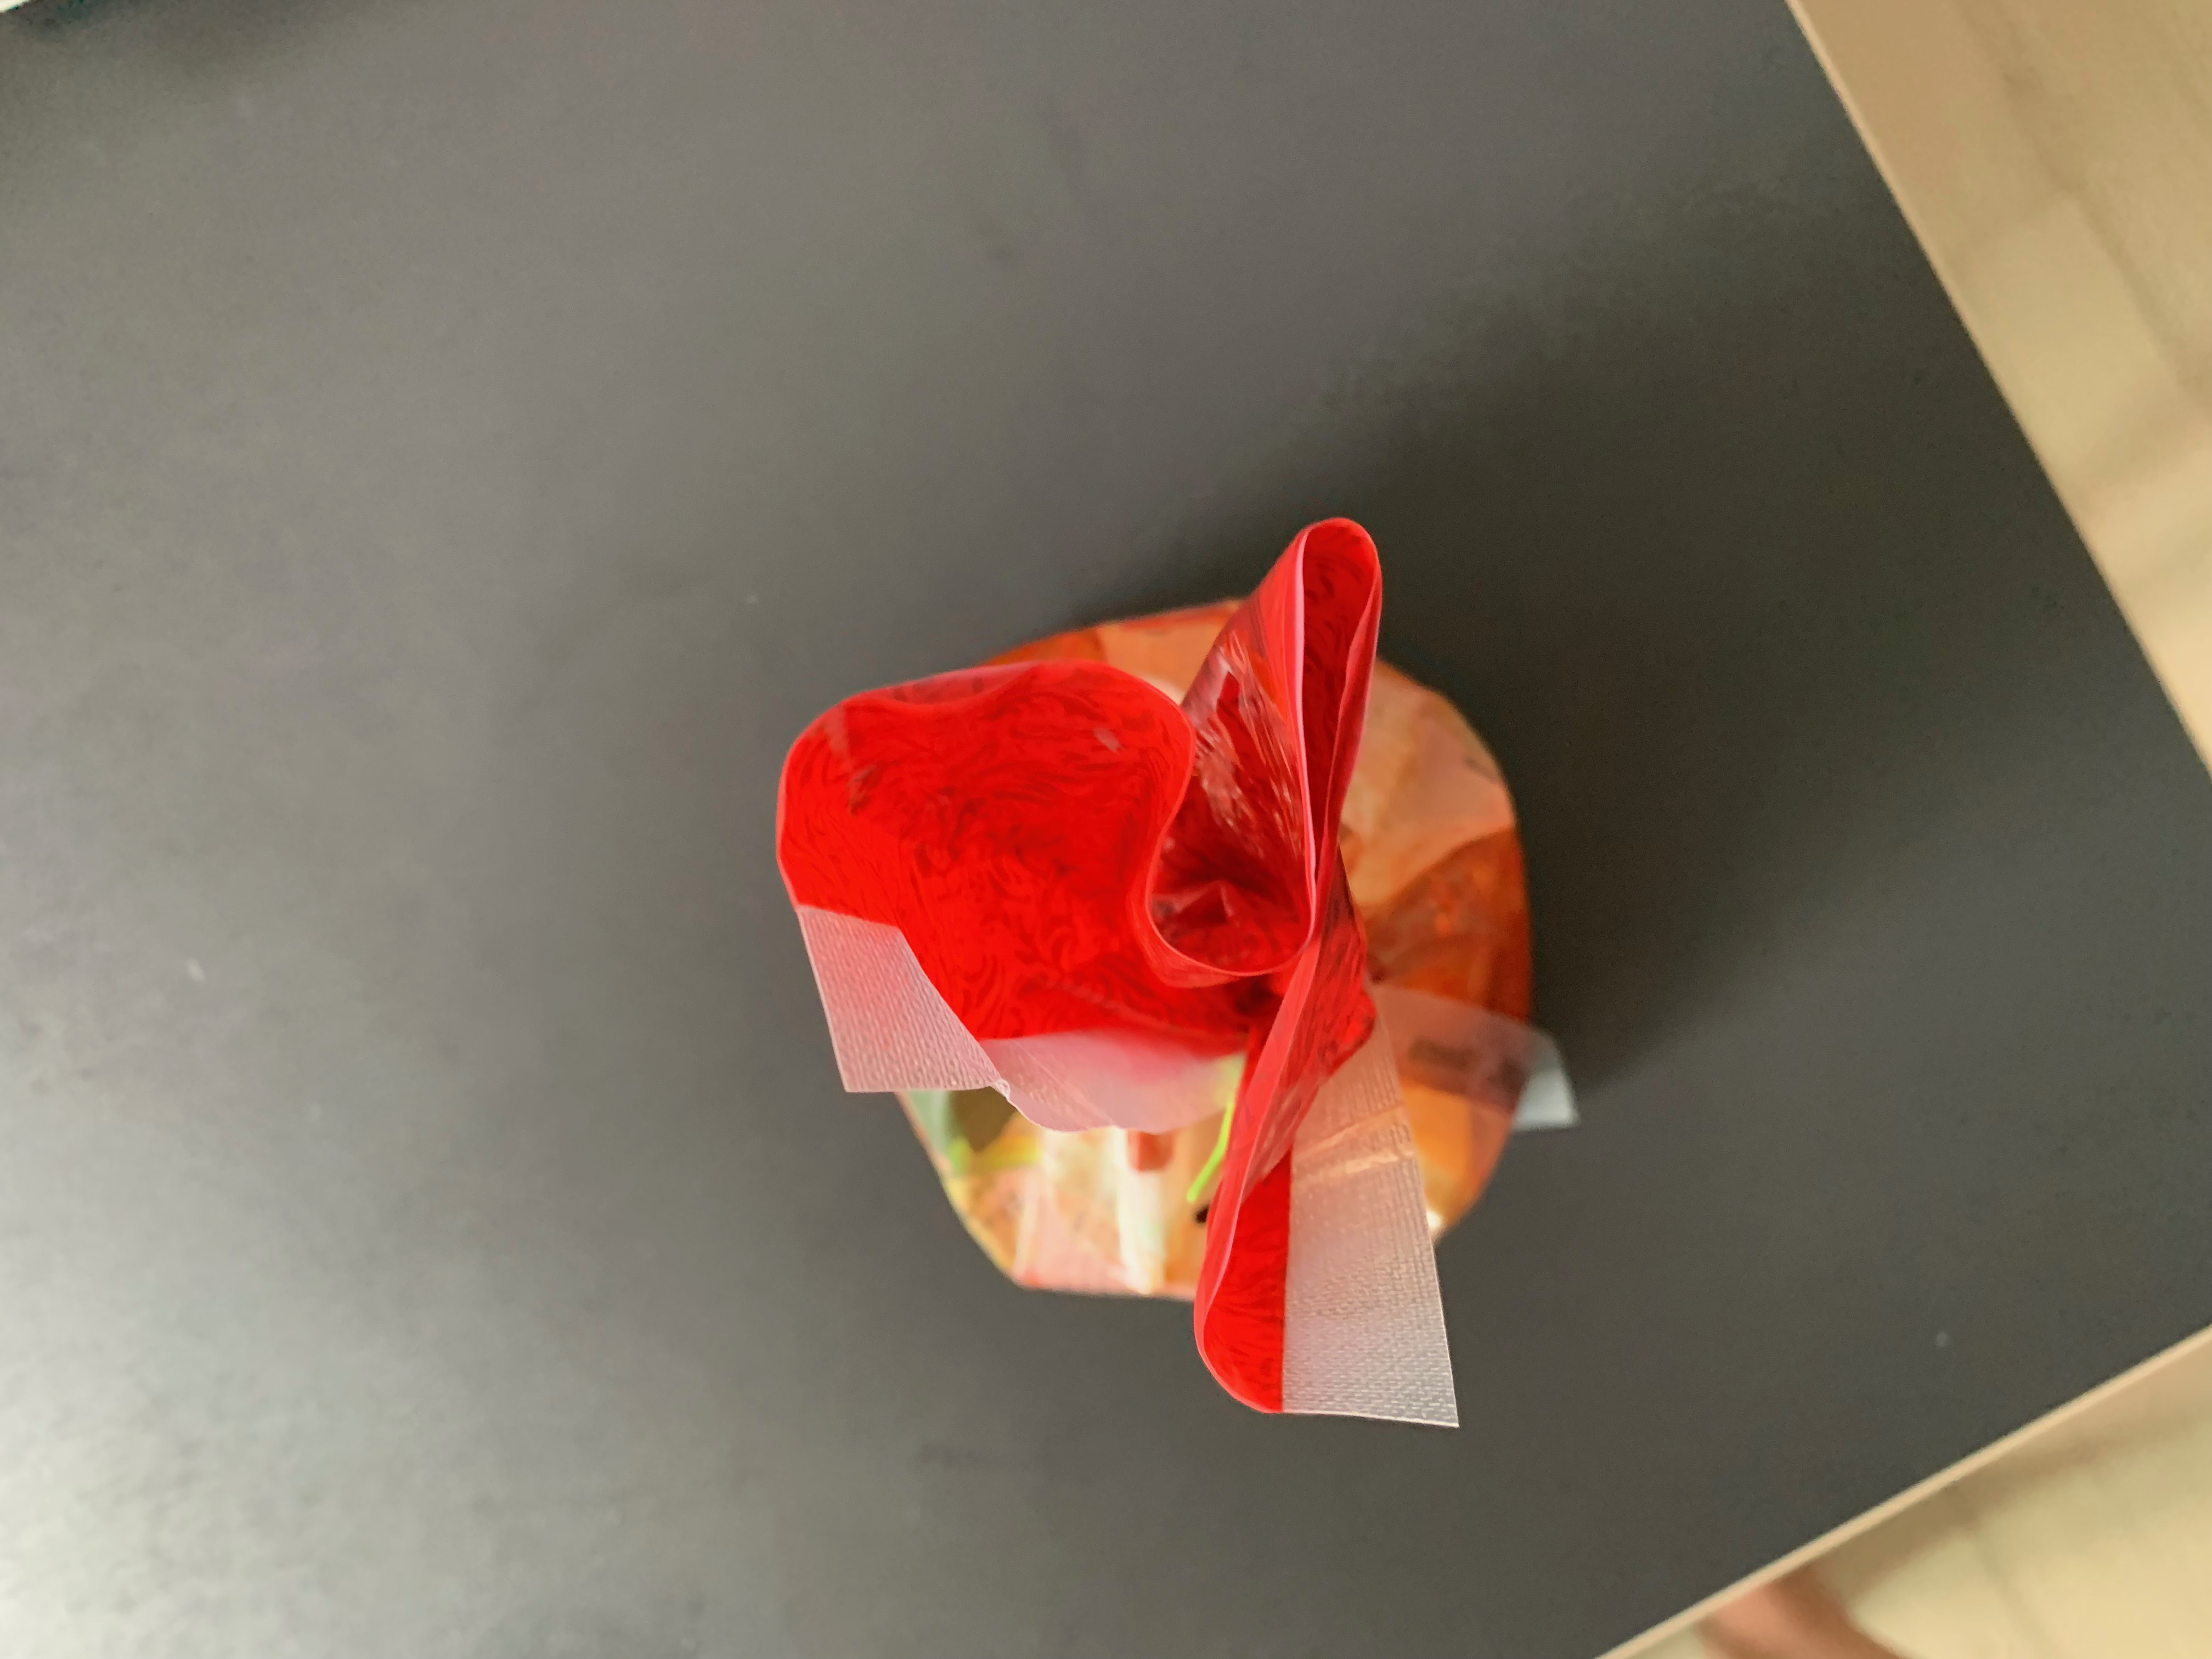kimchi: (775, 514, 1534, 1413)
